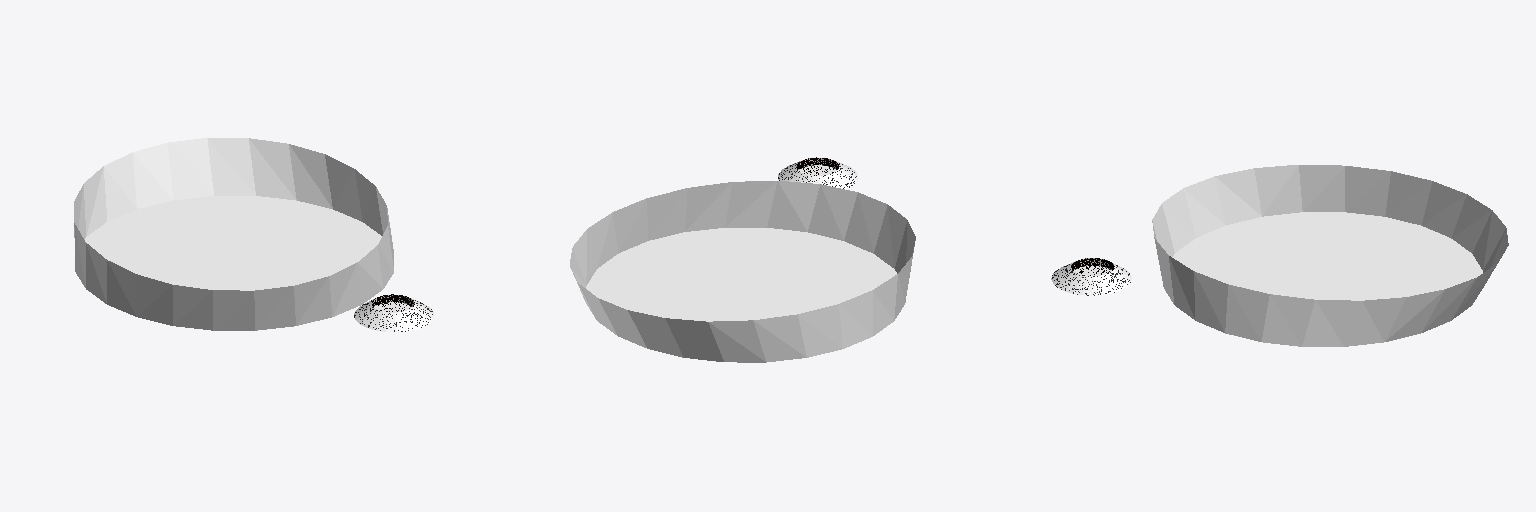
3 renders of one model, left to right at view 1: azimuth 30°, elevation 25°; view 2: azimuth 150°, elevation 25°; view 3: azimuth 270°, elevation 25°, orthographic.
Parts seen in each view (by area): view 1: mesh1_mesh1-geometry, mesh2_mesh2-geometry; view 2: mesh1_mesh1-geometry, mesh2_mesh2-geometry; view 3: mesh1_mesh1-geometry, mesh2_mesh2-geometry.
Part boxes in pixels (bbox=[...]): mesh1_mesh1-geometry: bbox=[74, 138, 393, 330]; mesh2_mesh2-geometry: bbox=[354, 294, 434, 331]; mesh1_mesh1-geometry: bbox=[570, 181, 915, 362]; mesh2_mesh2-geometry: bbox=[778, 157, 857, 189]; mesh1_mesh1-geometry: bbox=[1152, 165, 1508, 346]; mesh2_mesh2-geometry: bbox=[1051, 258, 1131, 295].
Bounding box in the file's own units: 0.5734 × 0.0917 × 0.8141.
6 materials, 3 textured.